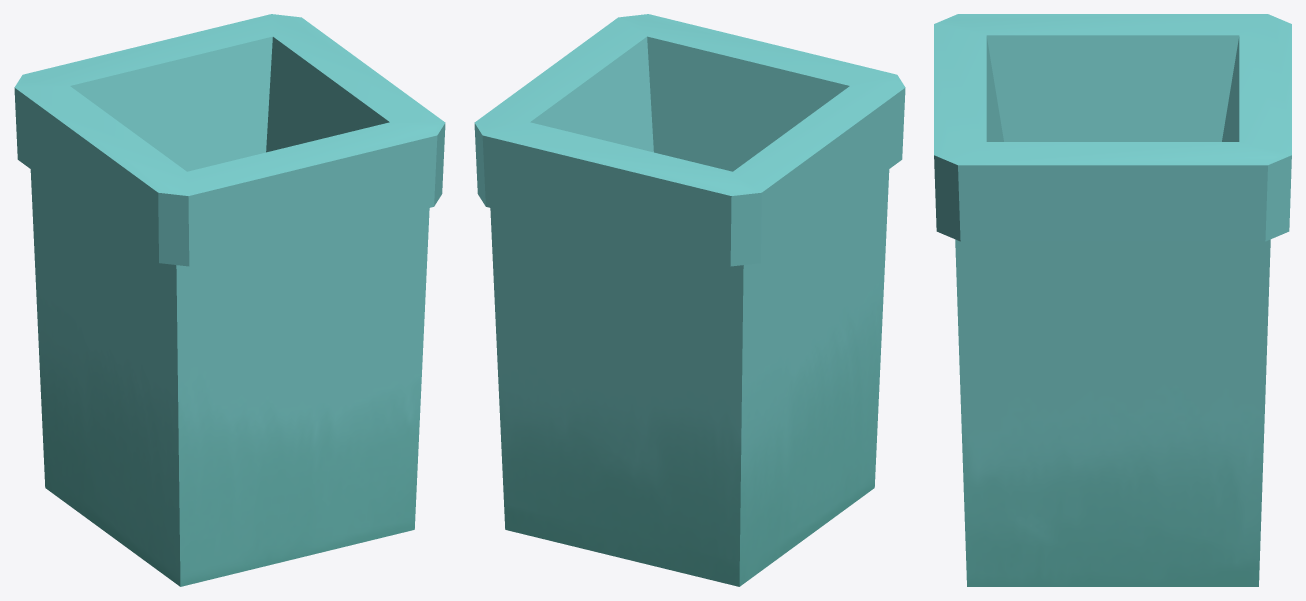
Rendered from m_pot_square.FBX.
3 renders of one model, left to right at view 1: azimuth 30°, elevation 25°; view 2: azimuth 150°, elevation 25°; view 3: azimuth 270°, elevation 25°, orthographic. The views are drawn at different scales.
Visible parts, largest first — view 1: pot3; view 2: pot3; view 3: pot3.
Boxes of the visible parts, left/top/right/bottom form: pot3: left=14, top=14, right=445, bottom=586; pot3: left=474, top=14, right=905, bottom=586; pot3: left=934, top=14, right=1291, bottom=586.
Bounding box in the file's own units: 11.14 × 15 × 11.14.
